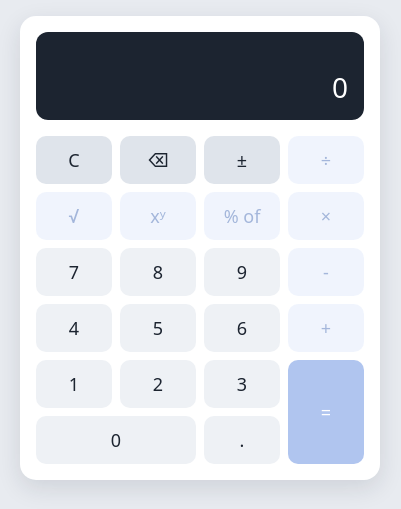
Test: Calculator keypad › chooses an operator with the Multiply button
This screenshot has width=401, height=509.
Click the button "1".
click(74, 384)  # box [36,360,112,408]
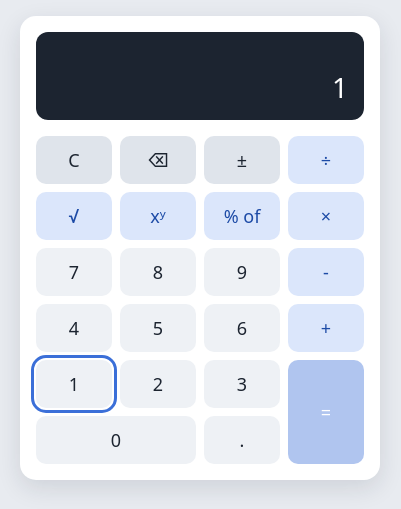
Click the button "2".
click(158, 384)  # box [120,360,196,408]
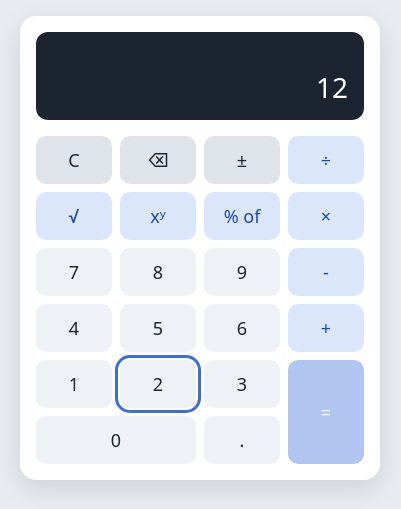
Click the button named "Multiply".
click(326, 216)  # box [288,192,364,240]
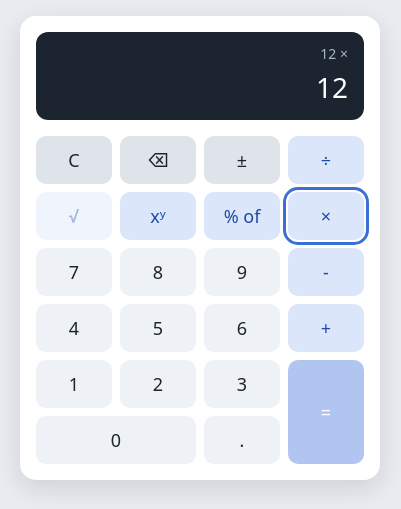
Result: the text "12 ×" is shown at [320,44,348,63]
